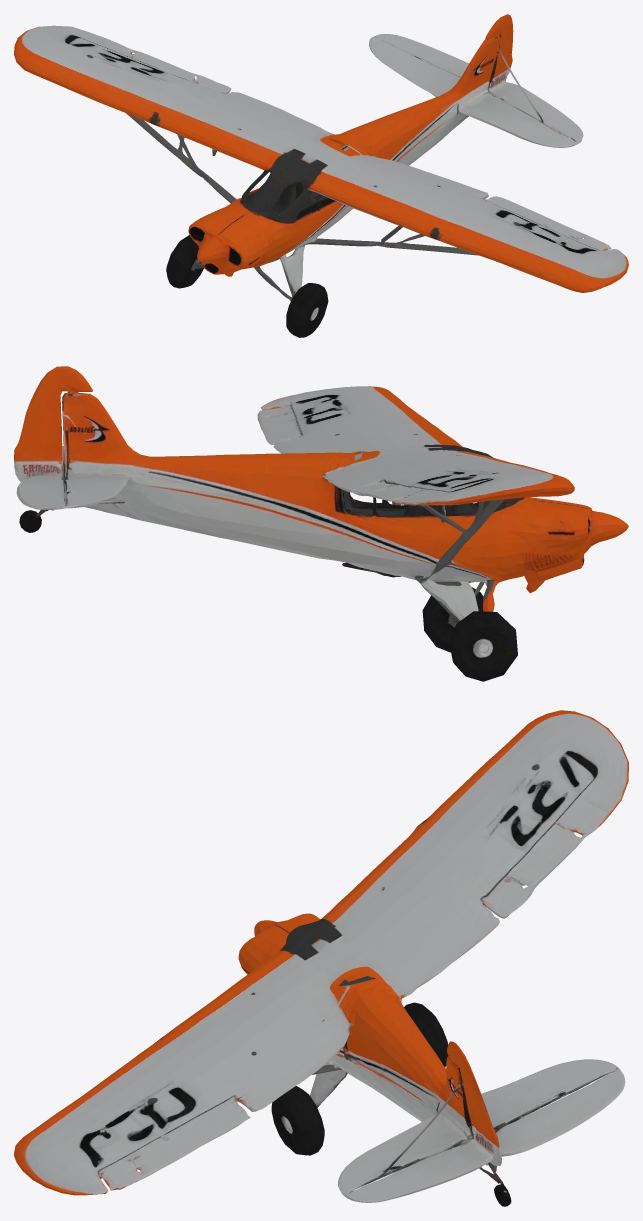
The model's file is avion.glb.
3 renders of one model, top to bottom at view 1: azimuth 30°, elevation 25°; view 2: azimuth 150°, elevation 25°; view 3: azimuth 270°, elevation 25°, orthographic. The views are drawn at different scales.
Visible parts, largest first — view 1: tripo_node_e9bff40b-7f92-4749-a231-9e5d1b52a76f; view 2: tripo_node_e9bff40b-7f92-4749-a231-9e5d1b52a76f; view 3: tripo_node_e9bff40b-7f92-4749-a231-9e5d1b52a76f.
Boxes of the visible parts, x1,y1,x2,y2 form: tripo_node_e9bff40b-7f92-4749-a231-9e5d1b52a76f: (14,14,628,337); tripo_node_e9bff40b-7f92-4749-a231-9e5d1b52a76f: (14,366,628,681); tripo_node_e9bff40b-7f92-4749-a231-9e5d1b52a76f: (14,710,628,1206).
Size of the model in its own units: 0.9794 by 0.4877 by 0.8223.
Materials: 1 (1 with a texture image).
